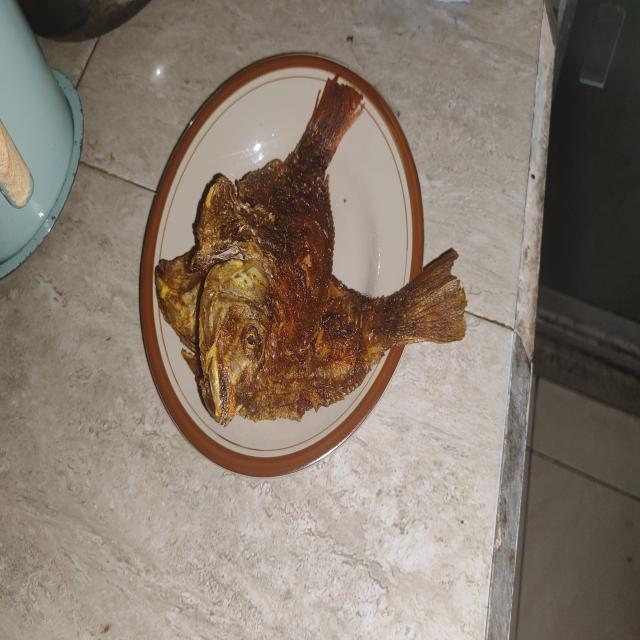ikan_mujair: (192, 79, 362, 426), (156, 234, 466, 416)
